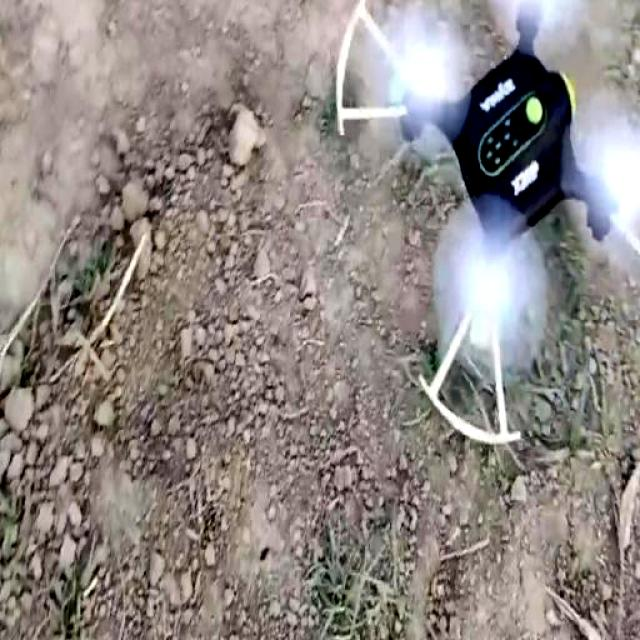bird: (334, 0, 640, 466)
